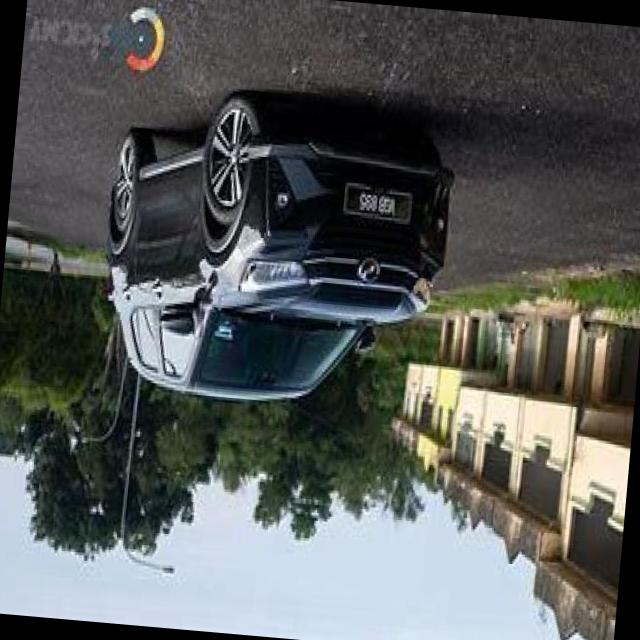PeroduaAtiva: (91, 82, 463, 420)
